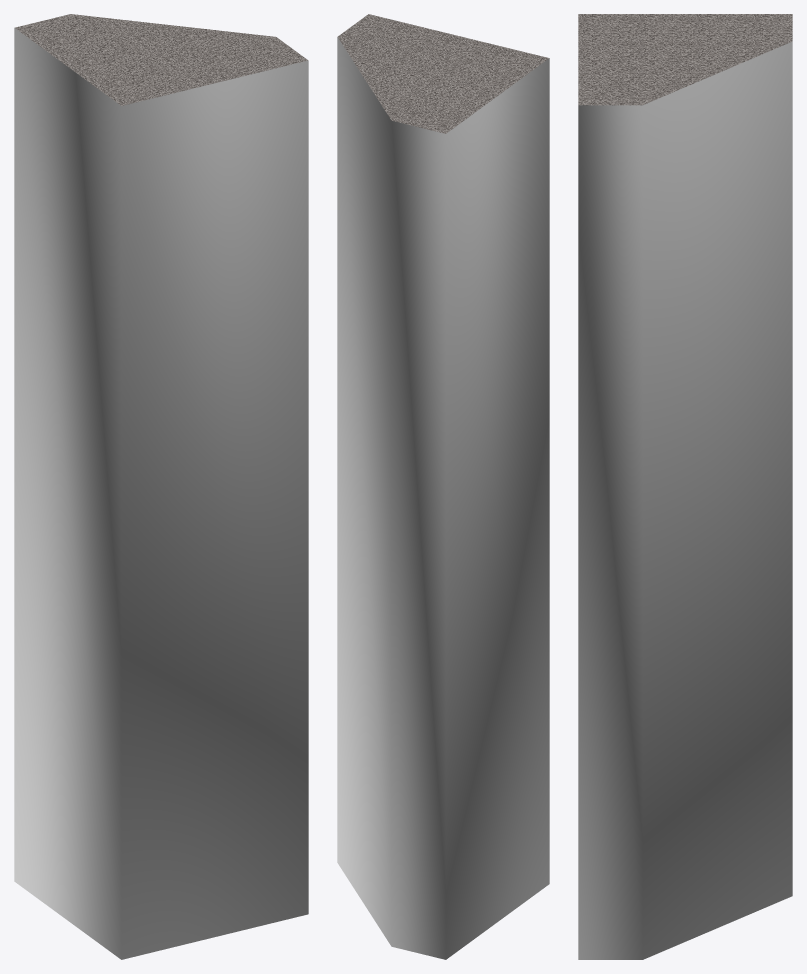
The model's file is PostApocCity2.fbx.
3 views of the same model, side by side, from view 1: azimuth 30°, elevation 25°; view 2: azimuth 150°, elevation 25°; view 3: azimuth 270°, elevation 25° (orthographic). The views are drawn at different scales.
Parts seen in each view (by area): view 1: CityGen.002; view 2: CityGen.002; view 3: CityGen.002.
Boxes of the visible parts, x1,y1,x2,y2 form: CityGen.002: [14, 14, 308, 959]; CityGen.002: [337, 14, 549, 959]; CityGen.002: [578, 14, 792, 959].
Size of the model in its own units: 53.43 by 233 by 52.98.
